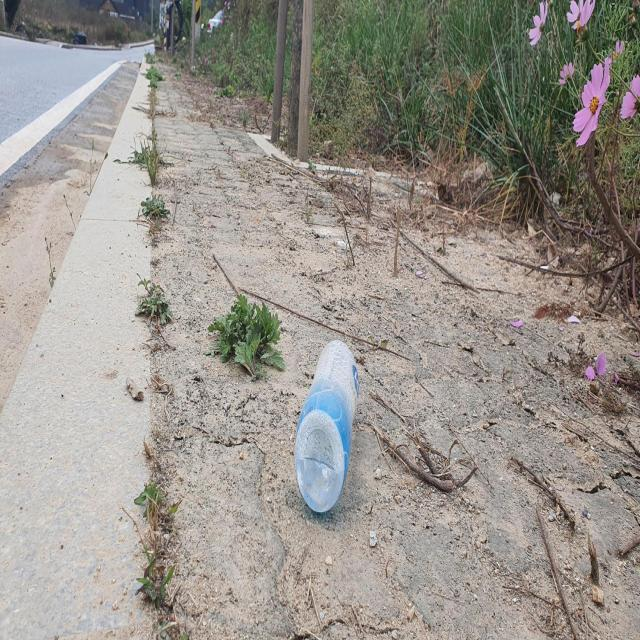plastic: (294, 341, 359, 513)
